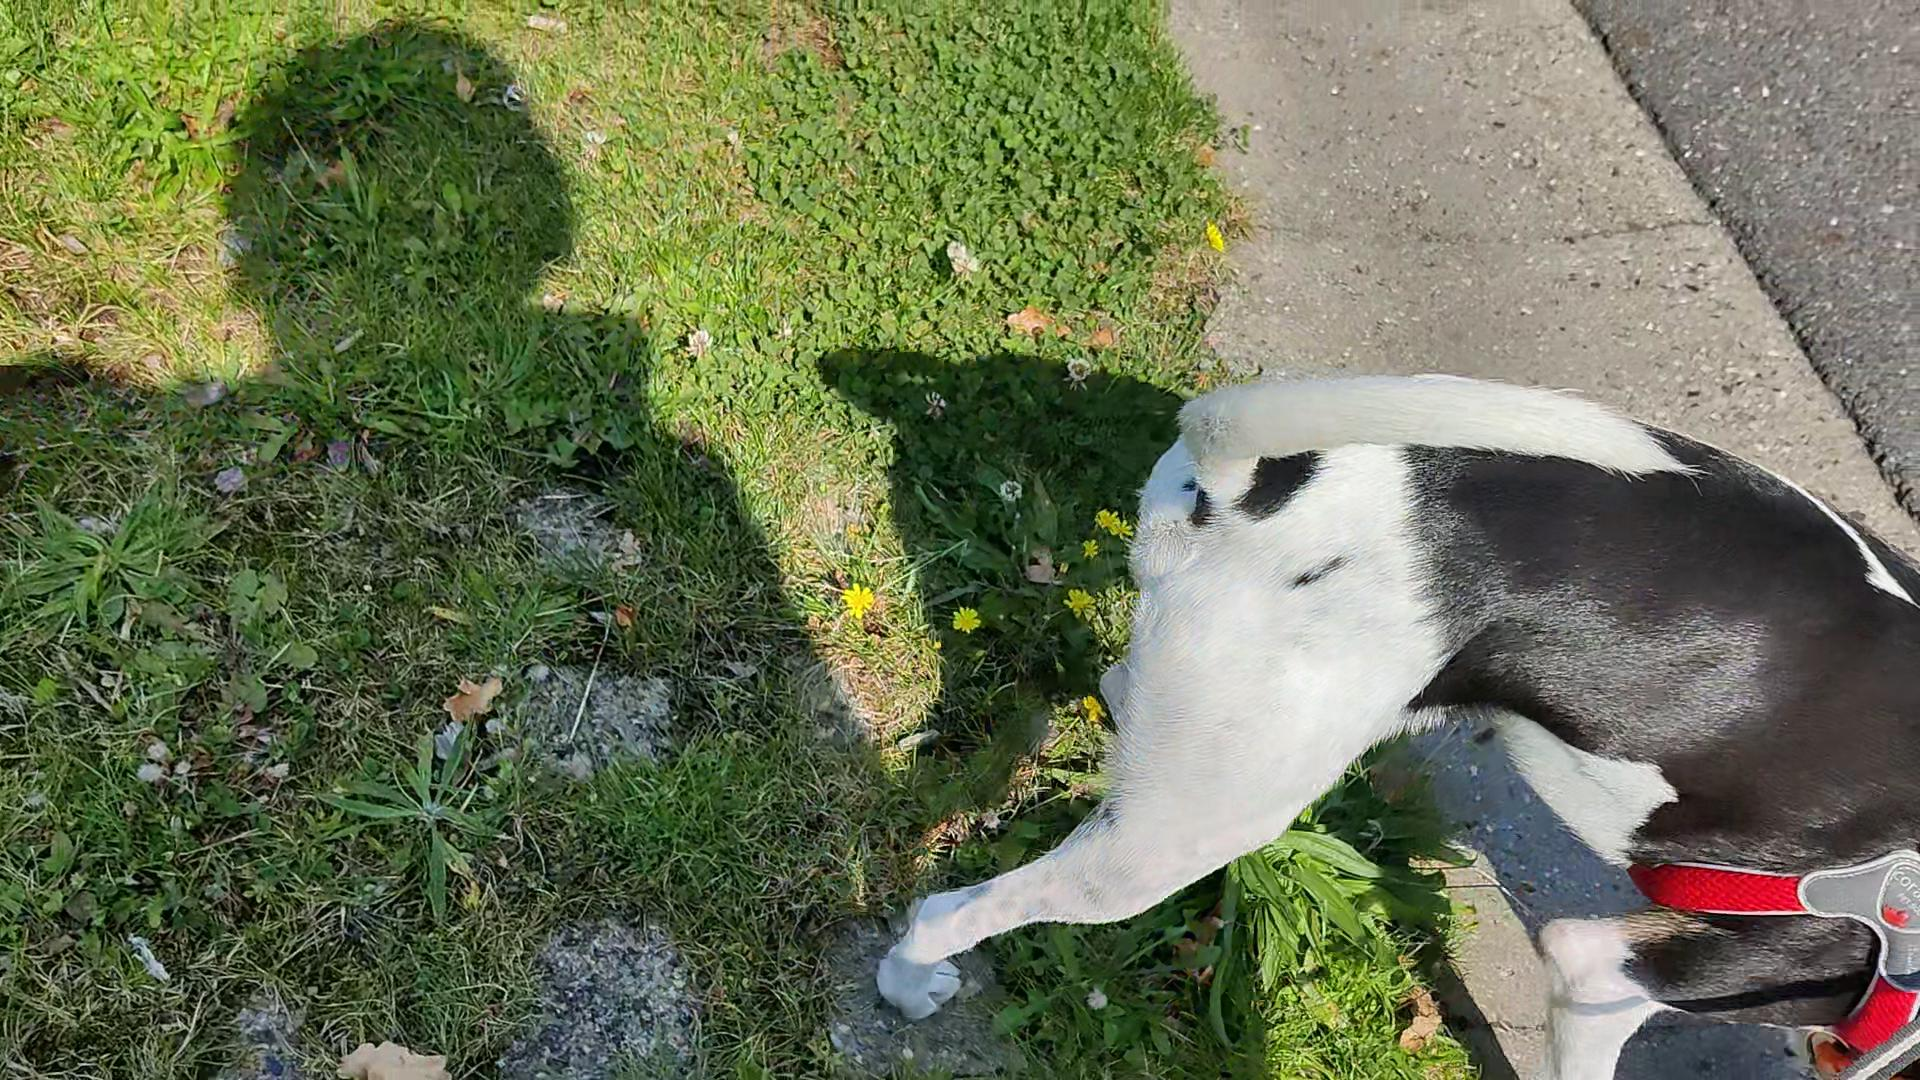Dog: (855, 320, 1919, 1079)
